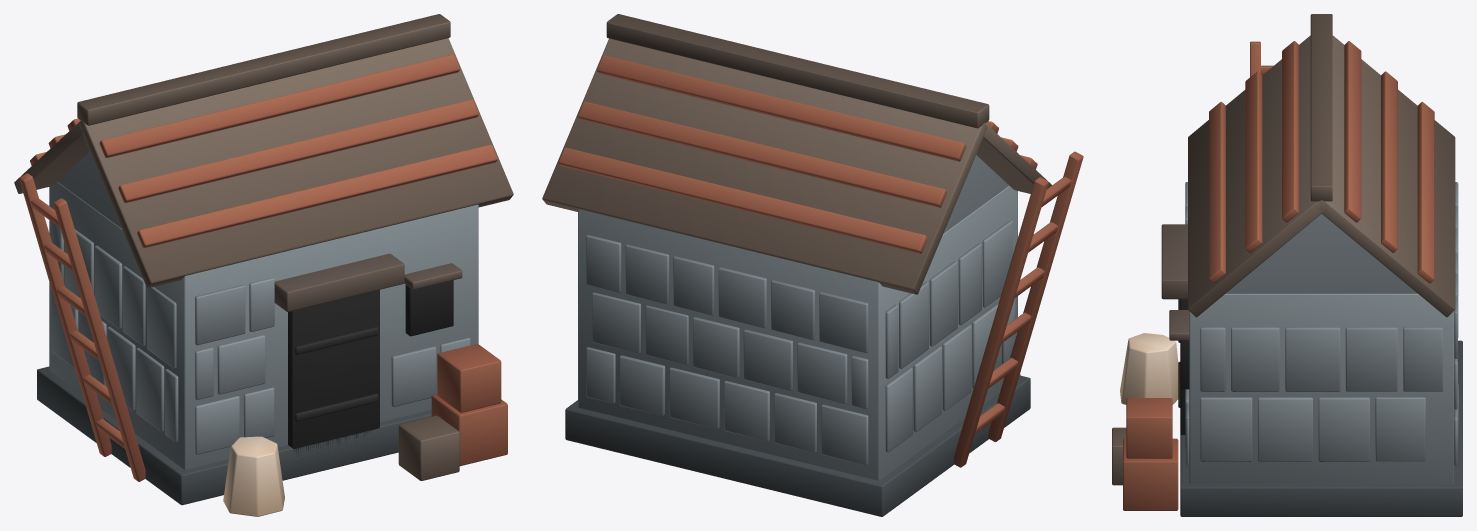
Rendered from stone_house.glb.
3 views of the same model, side by side, from view 1: azimuth 30°, elevation 25°; view 2: azimuth 150°, elevation 25°; view 3: azimuth 270°, elevation 25° (orthographic). The views are drawn at different scales.
Visible parts, largest first — view 1: stone_house; view 2: stone_house; view 3: stone_house.
Boxes of the visible parts, x1=… form: stone_house: x1=14, y1=14, x2=513, y2=516; stone_house: x1=542, y1=14, x2=1083, y2=516; stone_house: x1=1112, y1=14, x2=1462, y2=516.
Size of the model in its own units: 4.32 by 3.45 by 3.18.
1 material, 1 textured.
